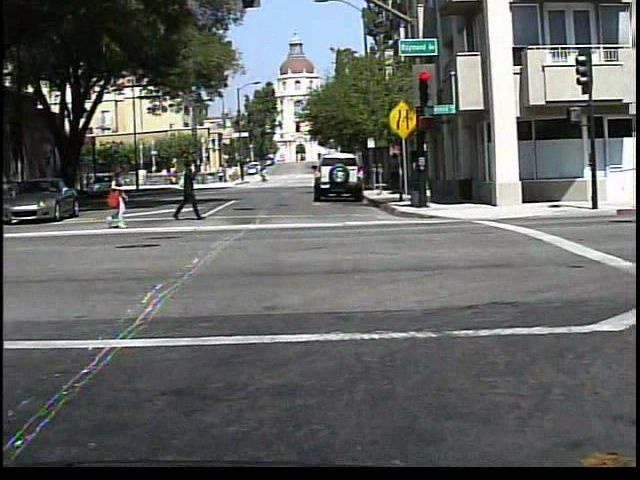person: (166, 158, 204, 223), (98, 162, 132, 231), (262, 167, 263, 185), (260, 168, 261, 185)
